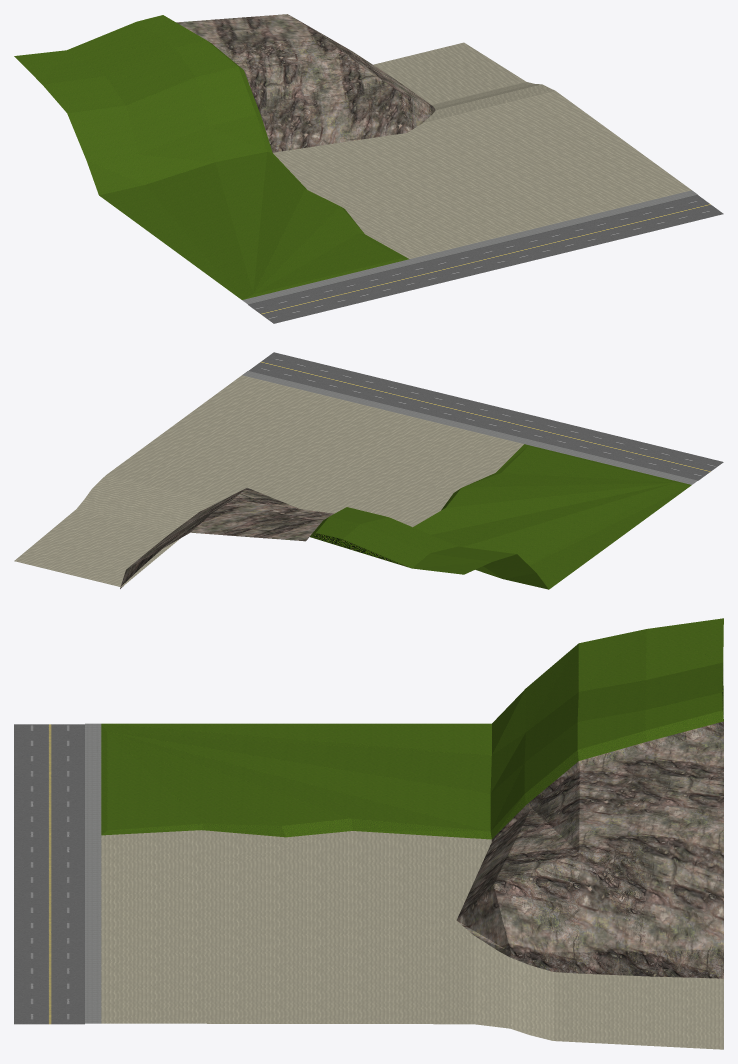
Rendered from ground_mix.FBX.
3 views of the same model, one above another, from view 1: azimuth 30°, elevation 25°; view 2: azimuth 150°, elevation 25°; view 3: azimuth 270°, elevation 25° (orthographic). The views are drawn at different scales.
Visible parts, largest first — view 1: ground_mix_LOD0; view 2: ground_mix_LOD0; view 3: ground_mix_LOD0.
Part boxes in pixels (x1=…): ground_mix_LOD0: x1=14, y1=14, x2=723, y2=323; ground_mix_LOD0: x1=14, y1=352, x2=723, y2=589; ground_mix_LOD0: x1=14, y1=618, x2=723, y2=1049.
Size of what is drawn, in the model's own units: 200 by 44.26 by 200.
